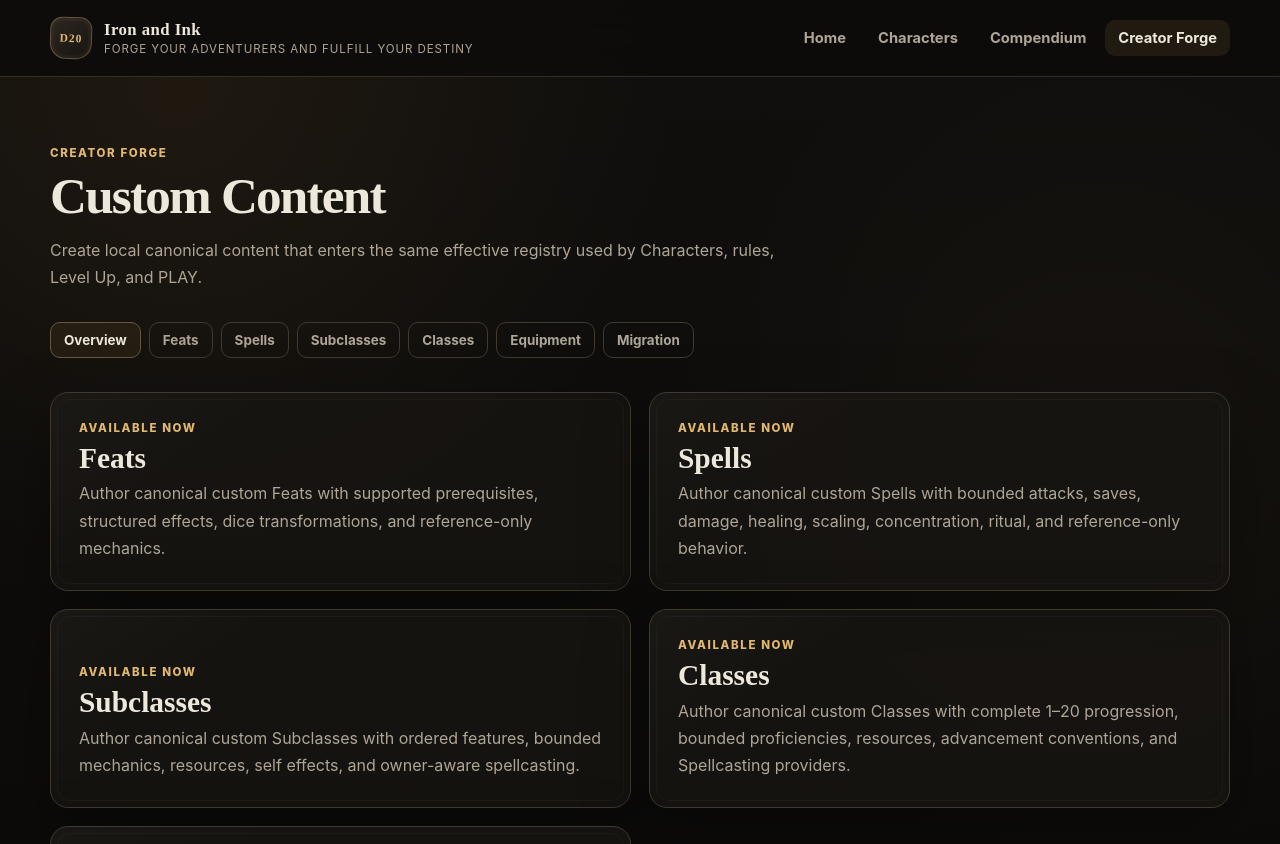
Test: M16-C Creator Forge shell and Feat Forge UI › A routes Creator Forge through the real shell with Feats preserved while later families follow the current Forge shell
This screenshot has width=1280, height=844.
Check: the link "Creator Forge" is shown, box [1105, 20, 1230, 56]
Check: the heading "Custom Content" is shown, box [50, 167, 385, 224]
Click the link "Feats". click: (181, 340)
box: [149, 322, 213, 358]
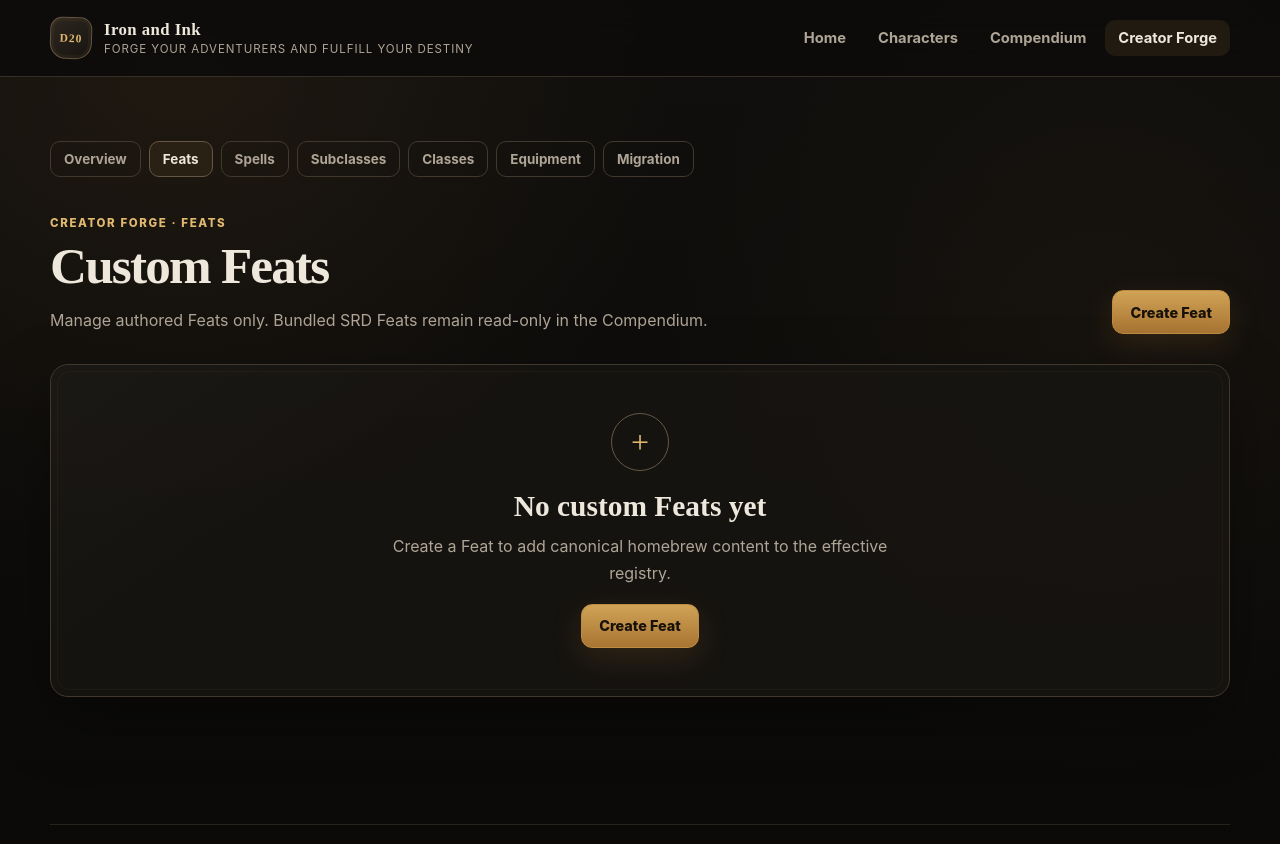
Check: the heading "Custom Feats" is shown, box [50, 237, 328, 294]
Click the 1st link "Create Feat". click: (1171, 312)
box: [1112, 290, 1230, 334]
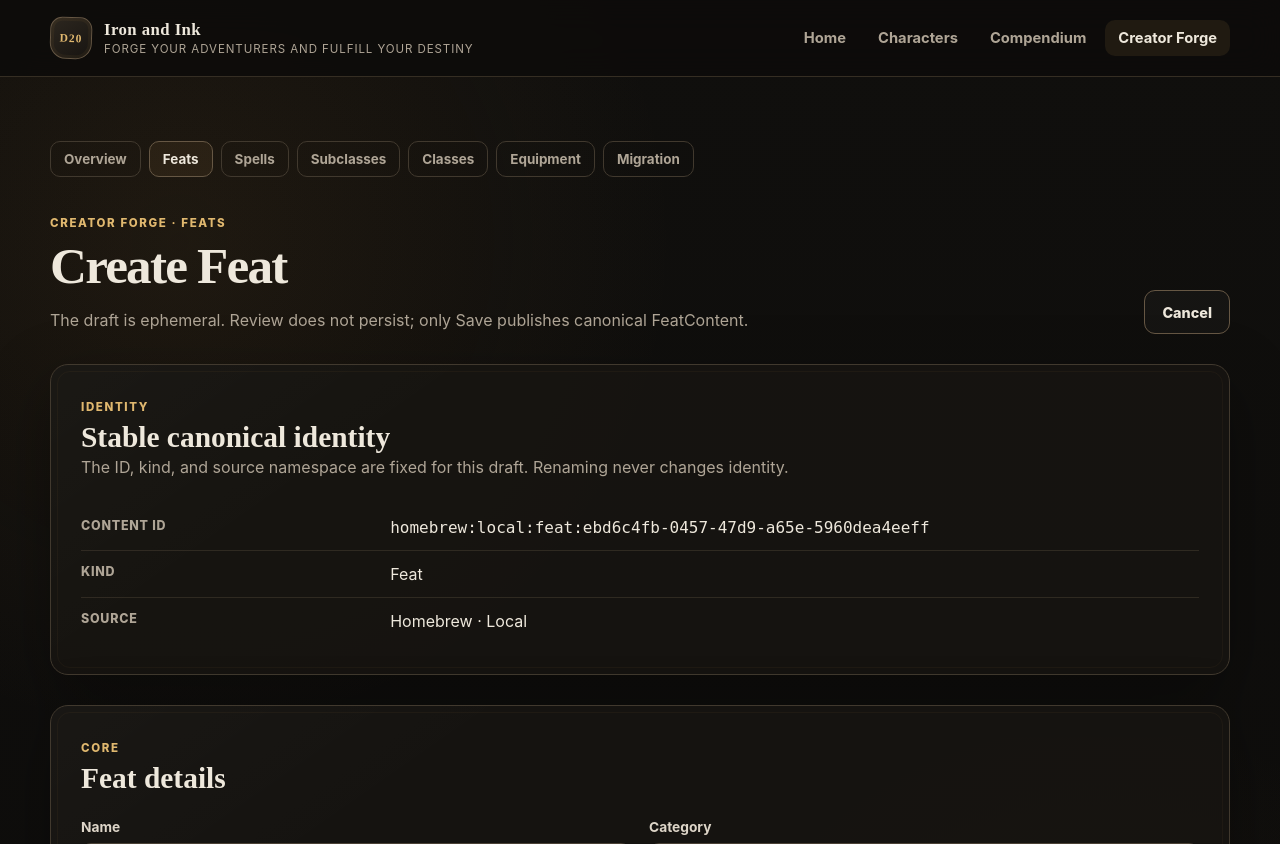
Check: the heading "Create Feat" is shown, box [50, 237, 287, 294]
